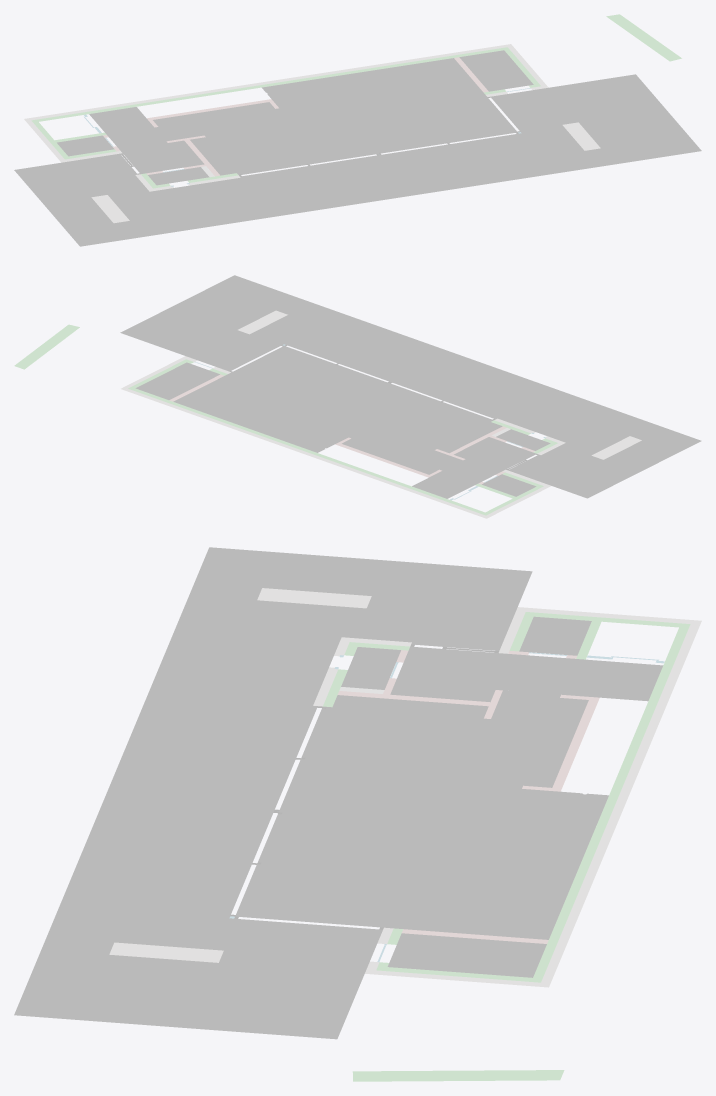
The model's file is floor-494050.glb.
The picture shows the model from 3 angles, top to bottom: view 1: azimuth 30°, elevation 25°; view 2: azimuth 150°, elevation 25°; view 3: azimuth 270°, elevation 25°; orthographic projection. The views are drawn at different scales.
Parts seen in each view (by area): view 1: SectionBody_8,b683faed-fb9d-4cc6-b100-20de4a1bdad3, SectionBody_24,c4d4f5d7-260c-4ad4-a9ce-62868acbba62, SectionBody_56,63c04251-d135-4bce-8152-a9d17808b4c5, SectionBody_60,2d03ef07-ffb8-4f88-878f-c5a2b548d946, SectionBody_35,dc67b657-ab68-42d4-8bbd-9122a325cf12, SectionBody_34,dc67b657-ab68-42d4-8bbd-9122a325cf12, SectionBody_63,739839fe-582c-46f9-984d-6acb4318c601, SectionBody_65,40f009c5-f6c7-4ef2-8b93-dde184843d29, SectionBody_32,89b1fc52-30c9-421b-8aba-7937692566b4, SectionBody_33,795bc6dd-ffb6-464f-bd53-32254240021a, SectionBody_62,afa63a6e-7fae-4072-89ff-7fe7ec9445ff, SectionBody_47,9666f702-09d8-429c-ab40-5c51cb5530fb; view 2: SectionBody_8,b683faed-fb9d-4cc6-b100-20de4a1bdad3, SectionBody_24,c4d4f5d7-260c-4ad4-a9ce-62868acbba62, SectionBody_56,63c04251-d135-4bce-8152-a9d17808b4c5, SectionBody_60,2d03ef07-ffb8-4f88-878f-c5a2b548d946, SectionBody_35,dc67b657-ab68-42d4-8bbd-9122a325cf12, SectionBody_34,dc67b657-ab68-42d4-8bbd-9122a325cf12, SectionBody_63,739839fe-582c-46f9-984d-6acb4318c601, SectionBody_65,40f009c5-f6c7-4ef2-8b93-dde184843d29, SectionBody_32,89b1fc52-30c9-421b-8aba-7937692566b4, SectionBody_33,795bc6dd-ffb6-464f-bd53-32254240021a, SectionBody_62,afa63a6e-7fae-4072-89ff-7fe7ec9445ff; view 3: SectionBody_8,b683faed-fb9d-4cc6-b100-20de4a1bdad3, SectionBody_24,c4d4f5d7-260c-4ad4-a9ce-62868acbba62, SectionBody_56,63c04251-d135-4bce-8152-a9d17808b4c5, SectionBody_60,2d03ef07-ffb8-4f88-878f-c5a2b548d946, SectionBody_35,dc67b657-ab68-42d4-8bbd-9122a325cf12, SectionBody_34,dc67b657-ab68-42d4-8bbd-9122a325cf12, SectionBody_63,739839fe-582c-46f9-984d-6acb4318c601, SectionBody_65,40f009c5-f6c7-4ef2-8b93-dde184843d29, SectionBody_32,89b1fc52-30c9-421b-8aba-7937692566b4, SectionBody_33,795bc6dd-ffb6-464f-bd53-32254240021a, SectionBody_62,afa63a6e-7fae-4072-89ff-7fe7ec9445ff, SectionBody_47,9666f702-09d8-429c-ab40-5c51cb5530fb (+4 smaller).
Boxes of the visible parts, x1=… form: SectionBody_8,b683faed-fb9d-4cc6-b100-20de4a1bdad3: x1=14, y1=74, x2=701, y2=246; SectionBody_24,c4d4f5d7-260c-4ad4-a9ce-62868acbba62: x1=153, y1=58, x2=517, y2=175; SectionBody_56,63c04251-d135-4bce-8152-a9d17808b4c5: x1=89, y1=107, x2=204, y2=173; SectionBody_60,2d03ef07-ffb8-4f88-878f-c5a2b548d946: x1=459, y1=50, x2=533, y2=91; SectionBody_35,dc67b657-ab68-42d4-8bbd-9122a325cf12: x1=29, y1=45, x2=507, y2=120; SectionBody_34,dc67b657-ab68-42d4-8bbd-9122a325cf12: x1=37, y1=48, x2=503, y2=121; SectionBody_63,739839fe-582c-46f9-984d-6acb4318c601: x1=606, y1=14, x2=681, y2=61; SectionBody_65,40f009c5-f6c7-4ef2-8b93-dde184843d29: x1=57, y1=135, x2=114, y2=156; SectionBody_32,89b1fc52-30c9-421b-8aba-7937692566b4: x1=148, y1=167, x2=209, y2=185; SectionBody_33,795bc6dd-ffb6-464f-bd53-32254240021a: x1=562, y1=122, x2=600, y2=150; SectionBody_62,afa63a6e-7fae-4072-89ff-7fe7ec9445ff: x1=91, y1=195, x2=129, y2=223; SectionBody_47,9666f702-09d8-429c-ab40-5c51cb5530fb: x1=147, y1=99, x2=272, y2=120; SectionBody_8,b683faed-fb9d-4cc6-b100-20de4a1bdad3: x1=120, y1=275, x2=701, y2=498; SectionBody_24,c4d4f5d7-260c-4ad4-a9ce-62868acbba62: x1=173, y1=346, x2=502, y2=474; SectionBody_56,63c04251-d135-4bce-8152-a9d17808b4c5: x1=412, y1=437, x2=536, y2=498; SectionBody_60,2d03ef07-ffb8-4f88-878f-c5a2b548d946: x1=135, y1=362, x2=219, y2=399; SectionBody_35,dc67b657-ab68-42d4-8bbd-9122a325cf12: x1=125, y1=388, x2=485, y2=517; SectionBody_34,dc67b657-ab68-42d4-8bbd-9122a325cf12: x1=132, y1=388, x2=484, y2=513; SectionBody_63,739839fe-582c-46f9-984d-6acb4318c601: x1=14, y1=324, x2=79, y2=369; SectionBody_65,40f009c5-f6c7-4ef2-8b93-dde184843d29: x1=482, y1=474, x2=536, y2=496; SectionBody_32,89b1fc52-30c9-421b-8aba-7937692566b4: x1=496, y1=429, x2=550, y2=450; SectionBody_33,795bc6dd-ffb6-464f-bd53-32254240021a: x1=238, y1=310, x2=287, y2=334; SectionBody_62,afa63a6e-7fae-4072-89ff-7fe7ec9445ff: x1=591, y1=436, x2=641, y2=459; SectionBody_8,b683faed-fb9d-4cc6-b100-20de4a1bdad3: x1=14, y1=547, x2=532, y2=1039; SectionBody_24,c4d4f5d7-260c-4ad4-a9ce-62868acbba62: x1=235, y1=690, x2=608, y2=939; SectionBody_56,63c04251-d135-4bce-8152-a9d17808b4c5: x1=390, y1=646, x2=663, y2=702; SectionBody_60,2d03ef07-ffb8-4f88-878f-c5a2b548d946: x1=387, y1=933, x2=546, y2=977; SectionBody_35,dc67b657-ab68-42d4-8bbd-9122a325cf12: x1=541, y1=624, x2=699, y2=983; SectionBody_34,dc67b657-ab68-42d4-8bbd-9122a325cf12: x1=533, y1=627, x2=688, y2=978; SectionBody_63,739839fe-582c-46f9-984d-6acb4318c601: x1=352, y1=1070, x2=564, y2=1081; SectionBody_65,40f009c5-f6c7-4ef2-8b93-dde184843d29: x1=519, y1=616, x2=591, y2=655; SectionBody_32,89b1fc52-30c9-421b-8aba-7937692566b4: x1=341, y1=647, x2=400, y2=689; SectionBody_33,795bc6dd-ffb6-464f-bd53-32254240021a: x1=109, y1=942, x2=223, y2=962; SectionBody_62,afa63a6e-7fae-4072-89ff-7fe7ec9445ff: x1=257, y1=588, x2=371, y2=608; SectionBody_47,9666f702-09d8-429c-ab40-5c51cb5530fb: x1=551, y1=697, x2=599, y2=791.
Bounding box in the file's own units: 25690 × 0 × 13975.
